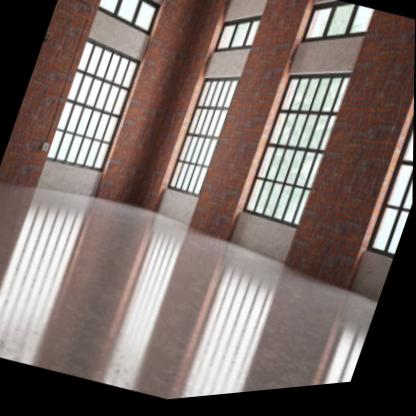Window: (243, 78, 351, 233), (46, 38, 140, 178), (168, 81, 242, 202)
